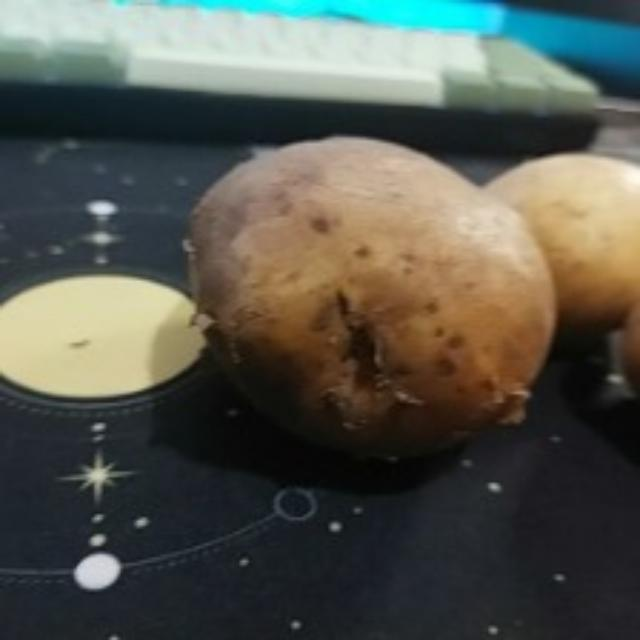Damaged potato: (174, 132, 560, 466)
Potato: (474, 150, 636, 332)
